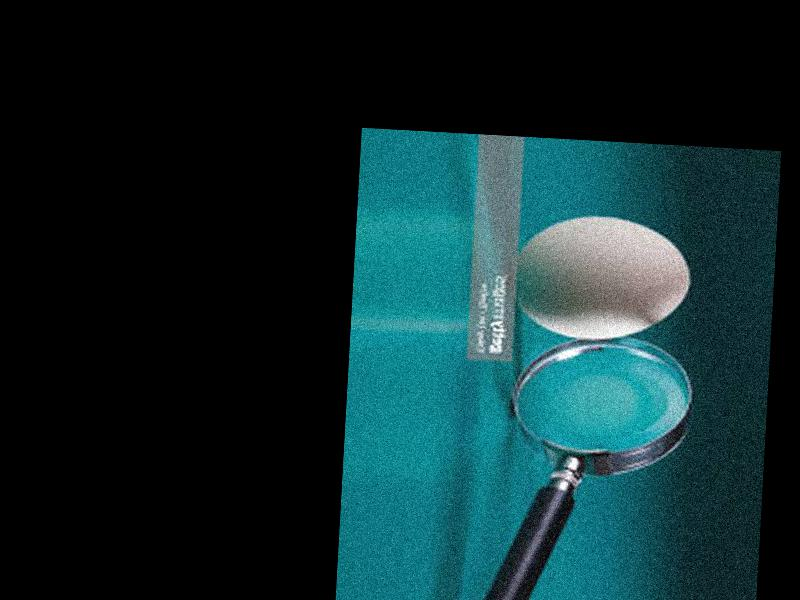Eggs: (510, 211, 694, 345)
